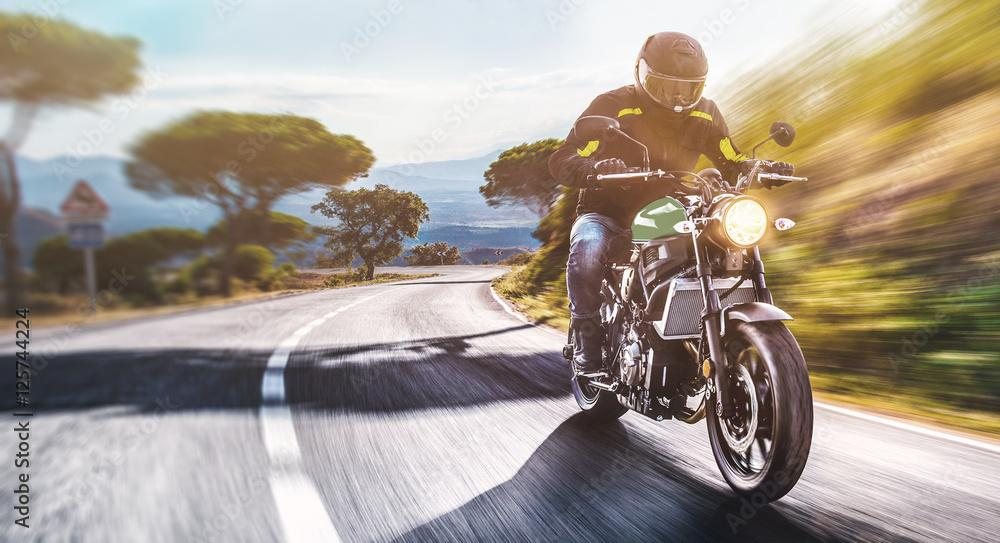helmet: (633, 30, 709, 140)
